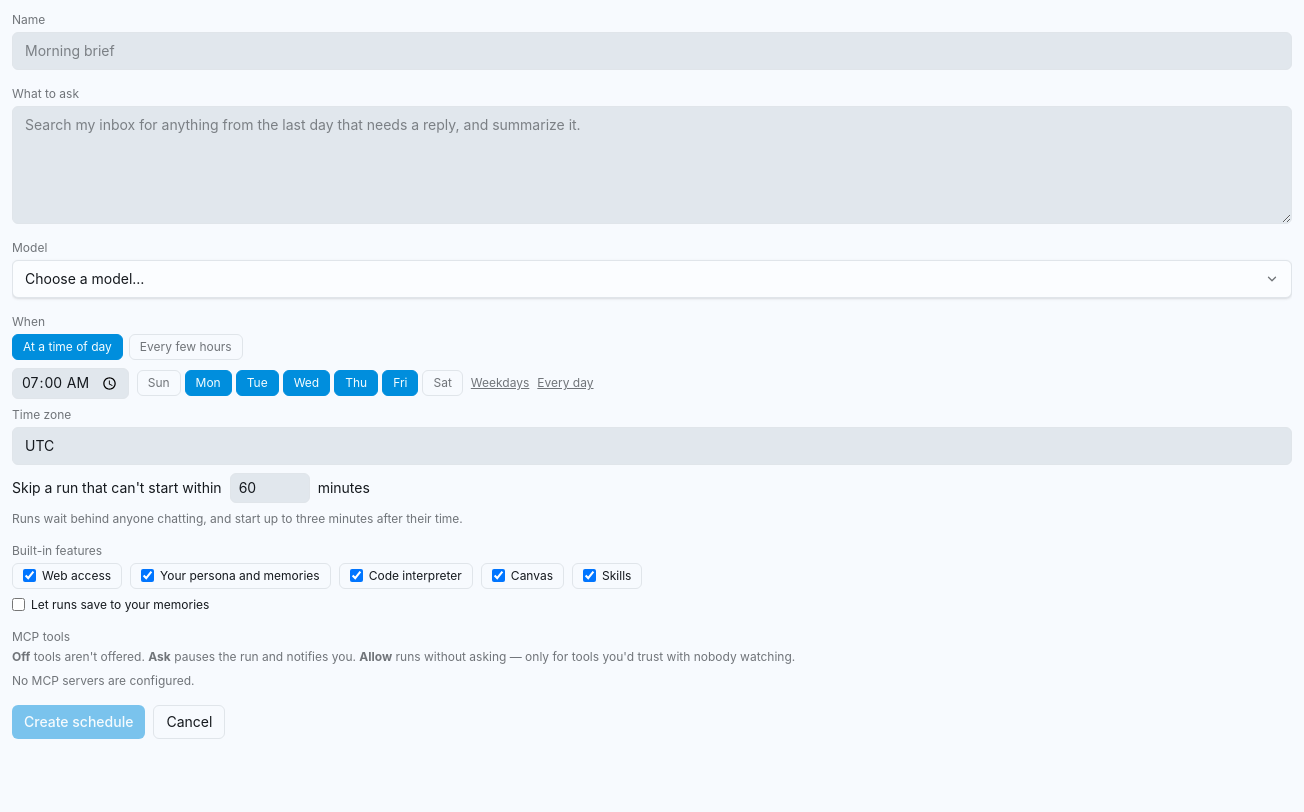
it: ScheduleEditor model picker › doesn't offer a preset built on a model a run can't use when its endpoint listed fine
The width and height of the screenshot is (1304, 812).
Click the button with aria-label "Select model": (85, 278) [12,260,1292,298]
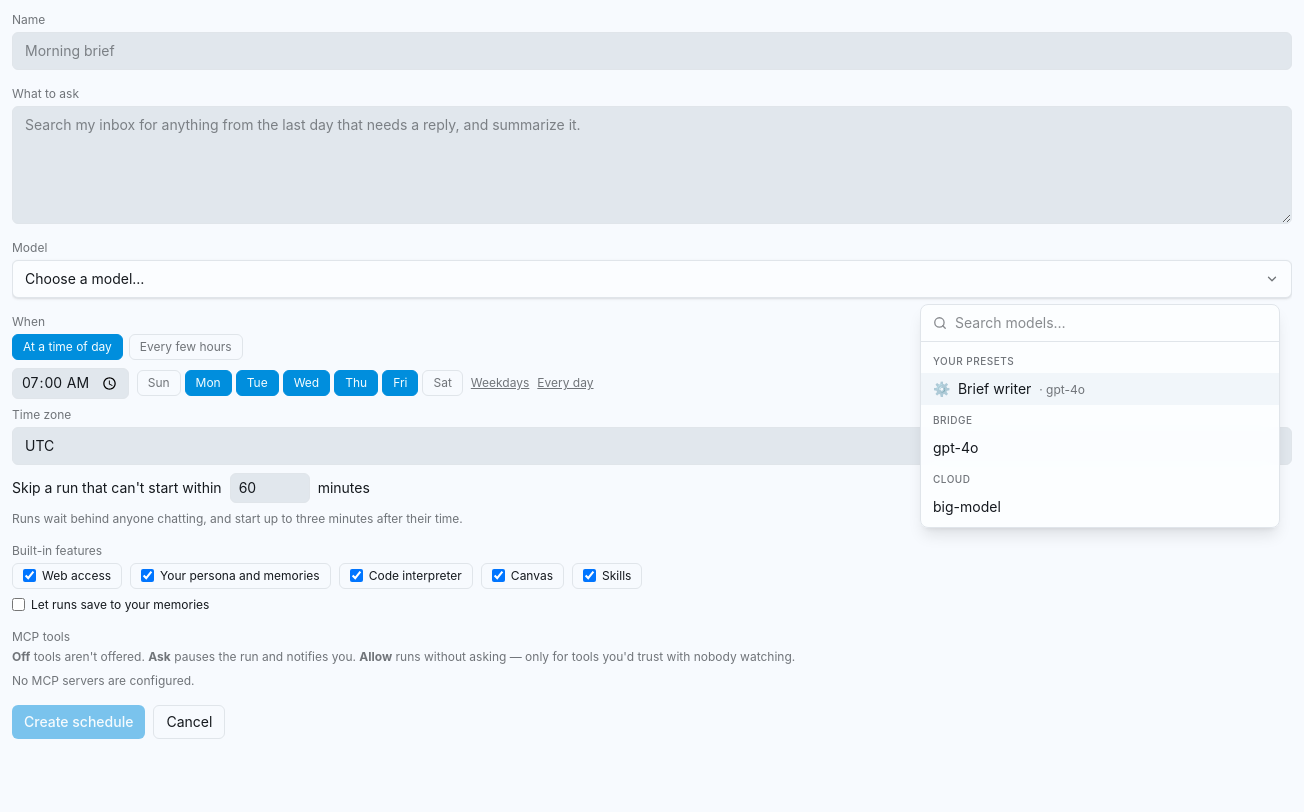
Result: the option "⚙ Brief writer · gpt-4o" is shown at [933,379,1267,399]
